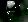person: (8, 3, 16, 16)
